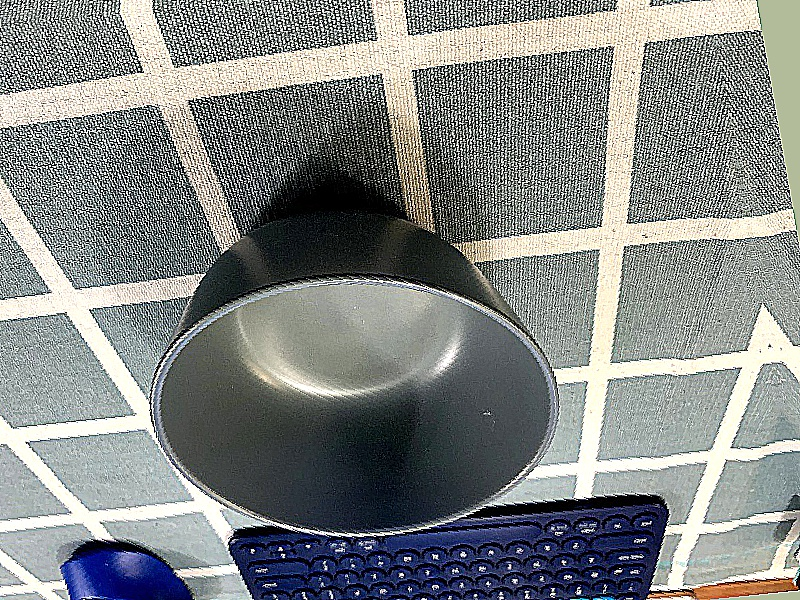bowl_big: (107, 181, 586, 562)
